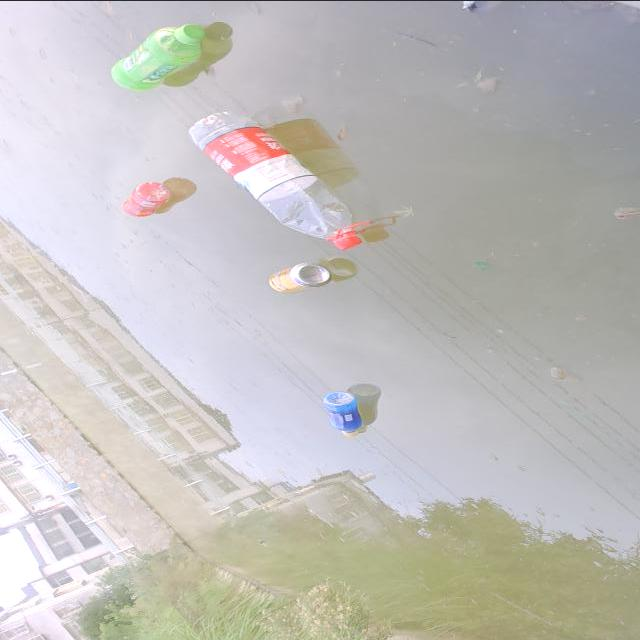bottle: (180, 103, 370, 257), (96, 11, 224, 100), (300, 376, 373, 444), (116, 177, 174, 221)
